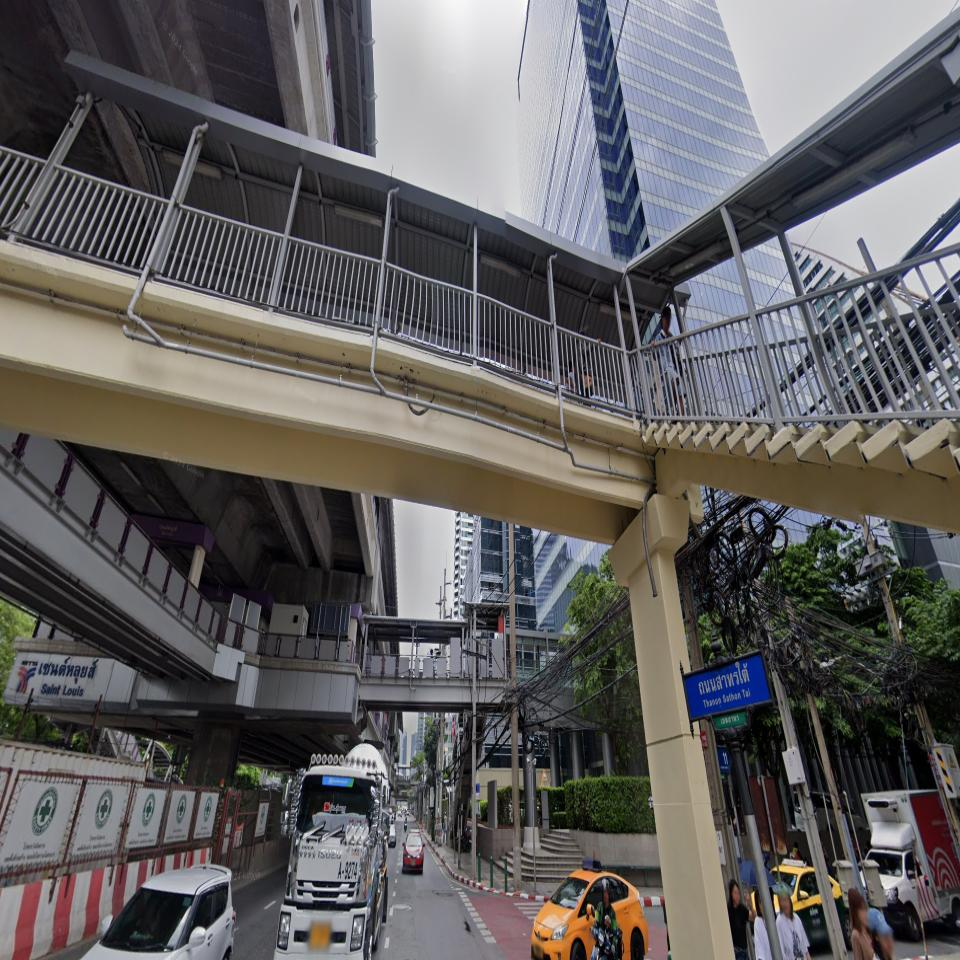signage: (14, 657, 100, 697), (38, 658, 100, 697)
